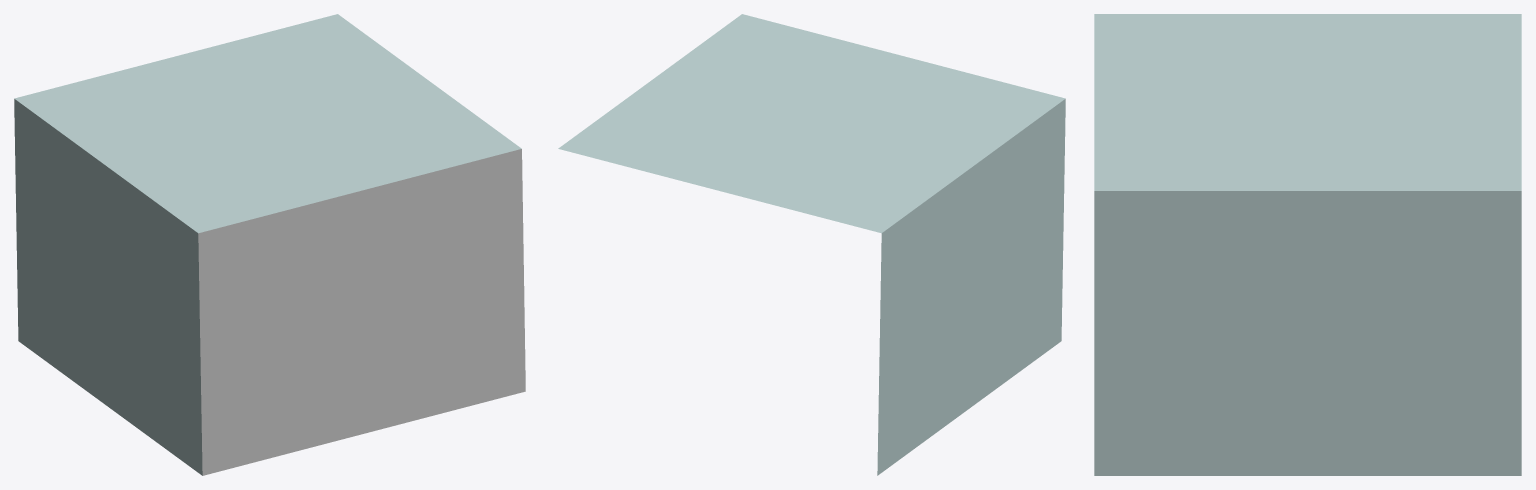
3 renders of one model, left to right at view 1: azimuth 30°, elevation 25°; view 2: azimuth 150°, elevation 25°; view 3: azimuth 270°, elevation 25°, orthographic. The views are drawn at different scales.
Visible parts, largest first — view 1: 0_2_2_3_3_3_2_1_2; view 2: 0_2_2_3_3_3_2_1_2; view 3: 0_2_2_3_3_3_2_1_2.
Part boxes in pixels (x1,y1,x2,y2): 0_2_2_3_3_3_2_1_2: [14, 14, 525, 475]; 0_2_2_3_3_3_2_1_2: [558, 14, 1065, 475]; 0_2_2_3_3_3_2_1_2: [1094, 14, 1521, 475].
Size of the model in its own units: 3.08 by 2.24 by 3.
